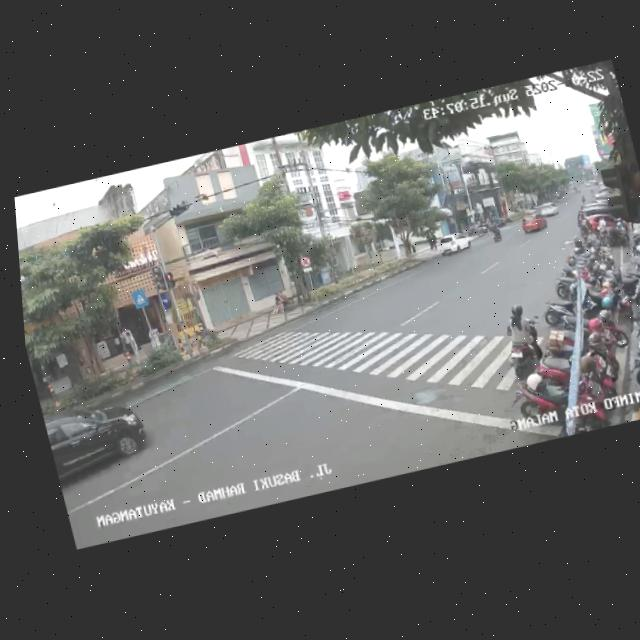car: (43, 392, 154, 493), (573, 193, 623, 238), (434, 226, 476, 256), (518, 209, 549, 236)
motorcycle: (497, 297, 554, 380), (487, 217, 503, 241)
